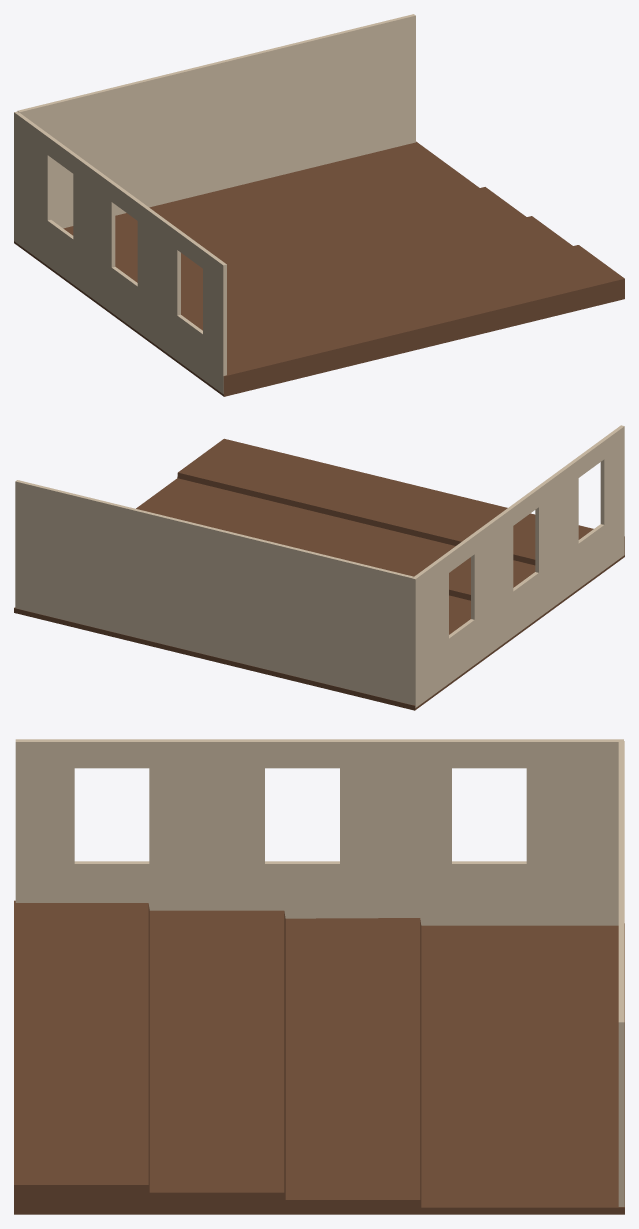
File: Classroom.fbx
3 views of the same model, one above another, from view 1: azimuth 30°, elevation 25°; view 2: azimuth 150°, elevation 25°; view 3: azimuth 270°, elevation 25° (orthographic). The views are drawn at different scales.
Visible parts, largest first — view 1: Floor, Walls.001, Walls; view 2: Walls.001, Floor, Walls; view 3: Floor, Walls, Walls.001.
Boxes of the visible parts, x1,y1,x2,y2 form: Floor: (14,141,624,396); Walls.001: (17,14,415,228); Walls: (14,111,226,394); Walls.001: (15,480,413,704); Floor: (14,438,624,710); Walls: (412,425,624,707); Floor: (14,900,624,1214); Walls: (15,739,623,925); Walls.001: (618,741,624,1206).
Bounding box in the file's own units: 1373 × 431 × 1245.
